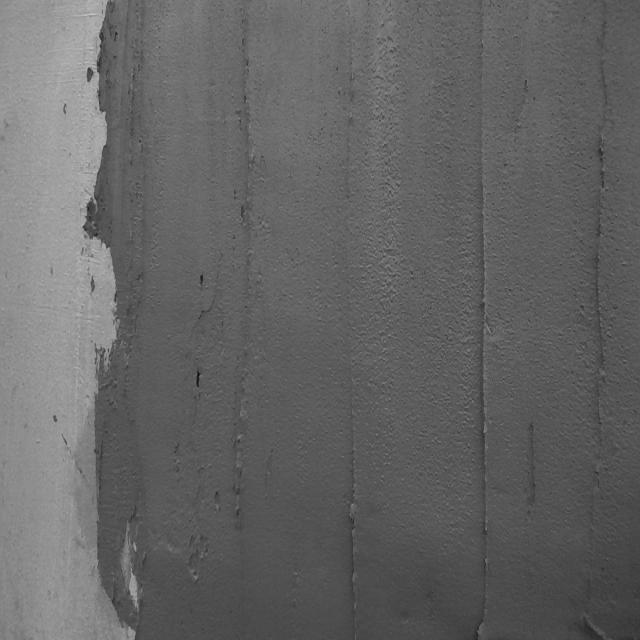trowels marks: (589, 1, 617, 640), (470, 15, 497, 640), (230, 32, 254, 549), (345, 434, 365, 640)
